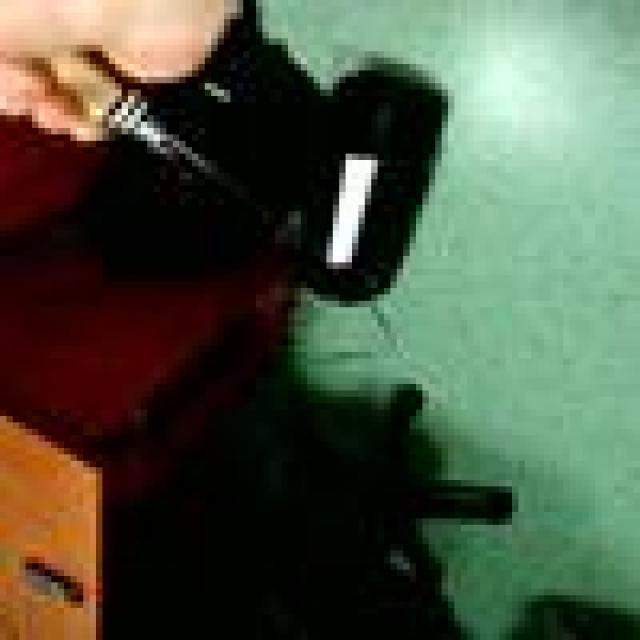knife: (114, 80, 220, 198)
